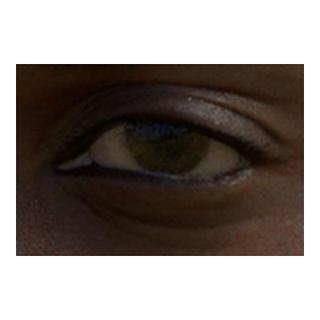pupil: (150, 116, 186, 152)
